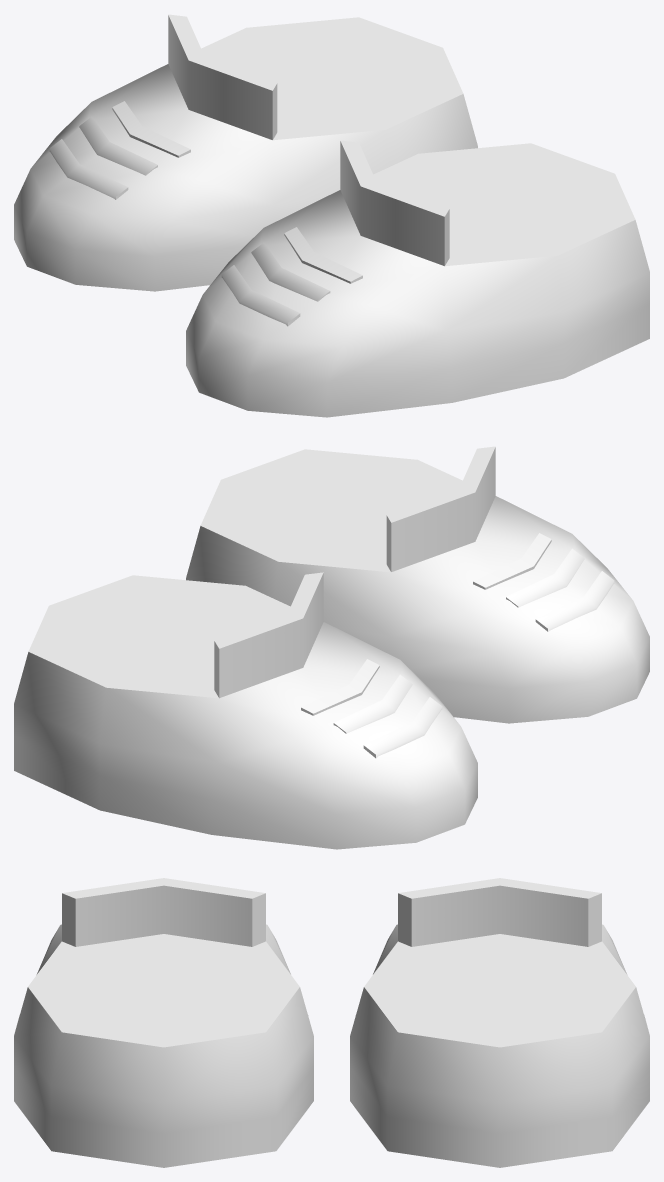
Rendered from sneakers.fbx.
3 renders of one model, top to bottom at view 1: azimuth 30°, elevation 25°; view 2: azimuth 150°, elevation 25°; view 3: azimuth 270°, elevation 25°, orthographic. The views are drawn at different scales.
Visible parts, largest first — view 1: Cube.000; view 2: Cube.000; view 3: Cube.000.
Boxes of the visible parts, bbox=[...] form: Cube.000: bbox=[14, 14, 649, 417]; Cube.000: bbox=[14, 446, 649, 849]; Cube.000: bbox=[14, 878, 649, 1167].
Bounding box in the file's own units: 88.28 × 32.84 × 116.
